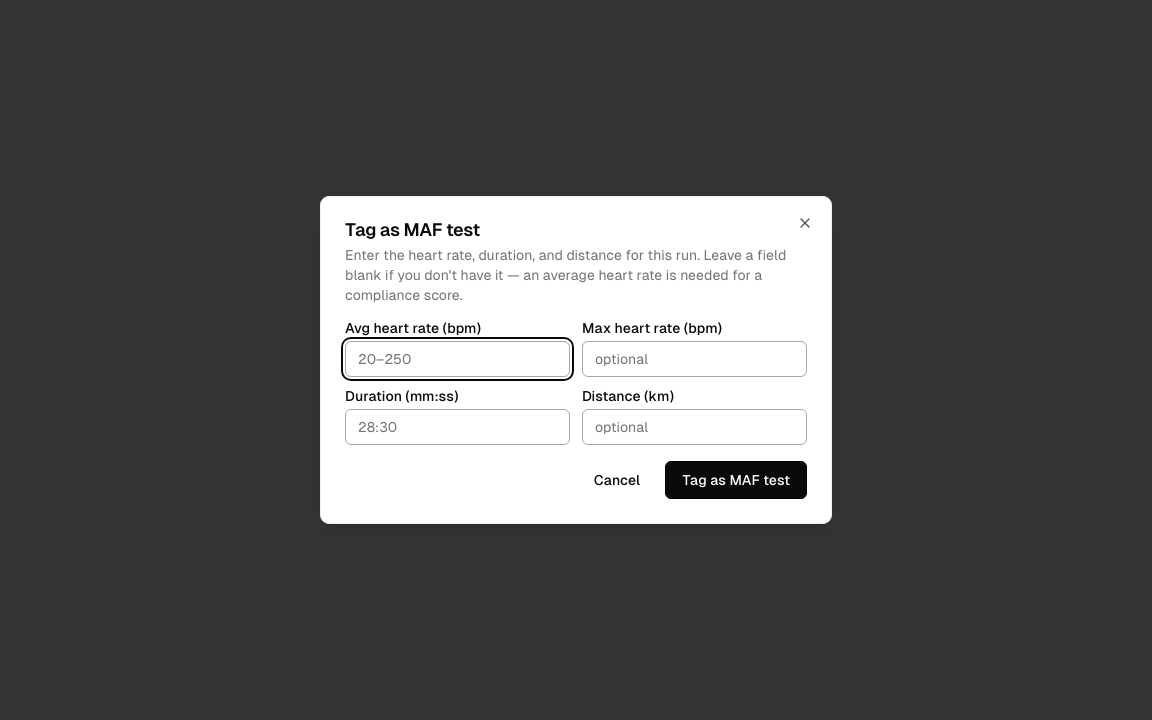
MafTestForm › blocks submit and surfaces an error for an out-of-range heart rate
Type "12" into the field with test id "maf-test-form-avg-hr" at (458, 359), box [345, 341, 570, 377]
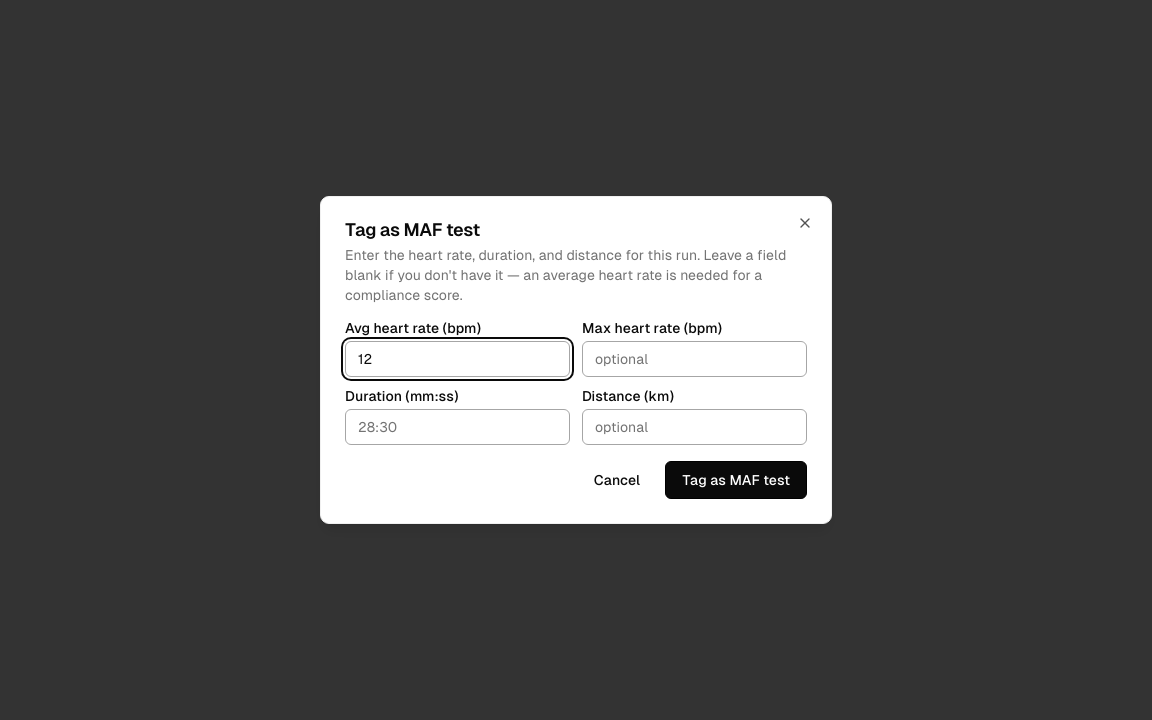
Click the button with test id "maf-test-form-submit" at (736, 480), box [665, 461, 807, 499]
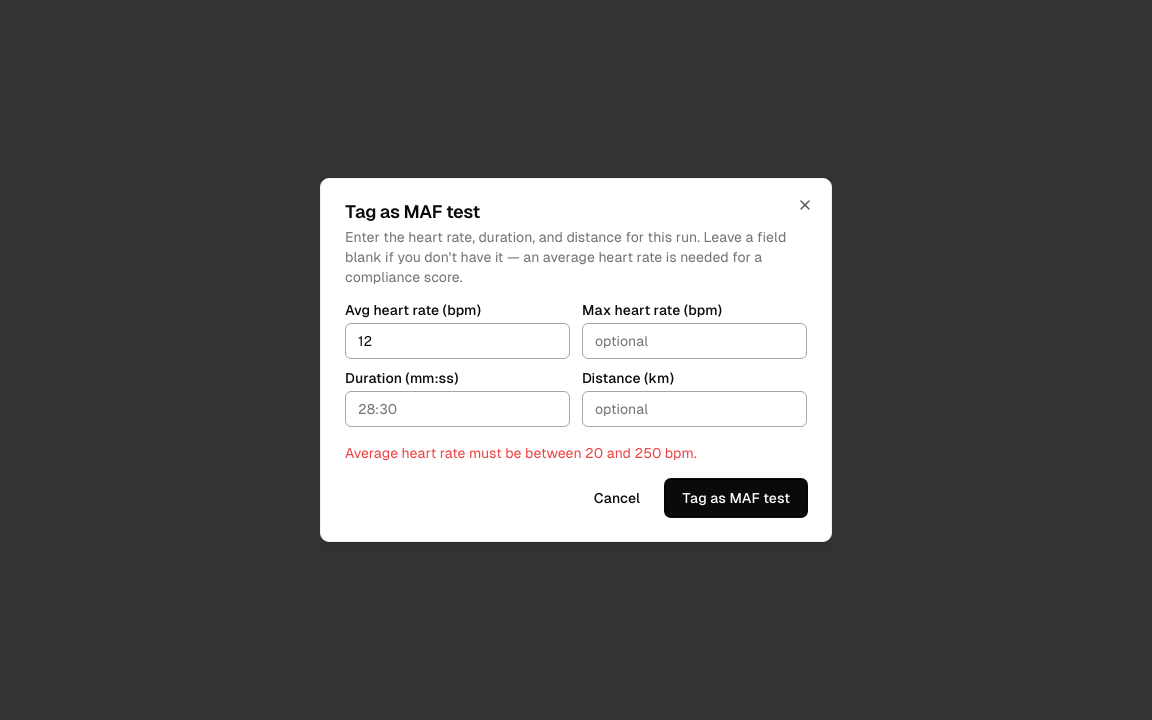
Expected: the message "Average heart rate must be between 20 and 250 bpm." is shown, [345, 445, 697, 461]
